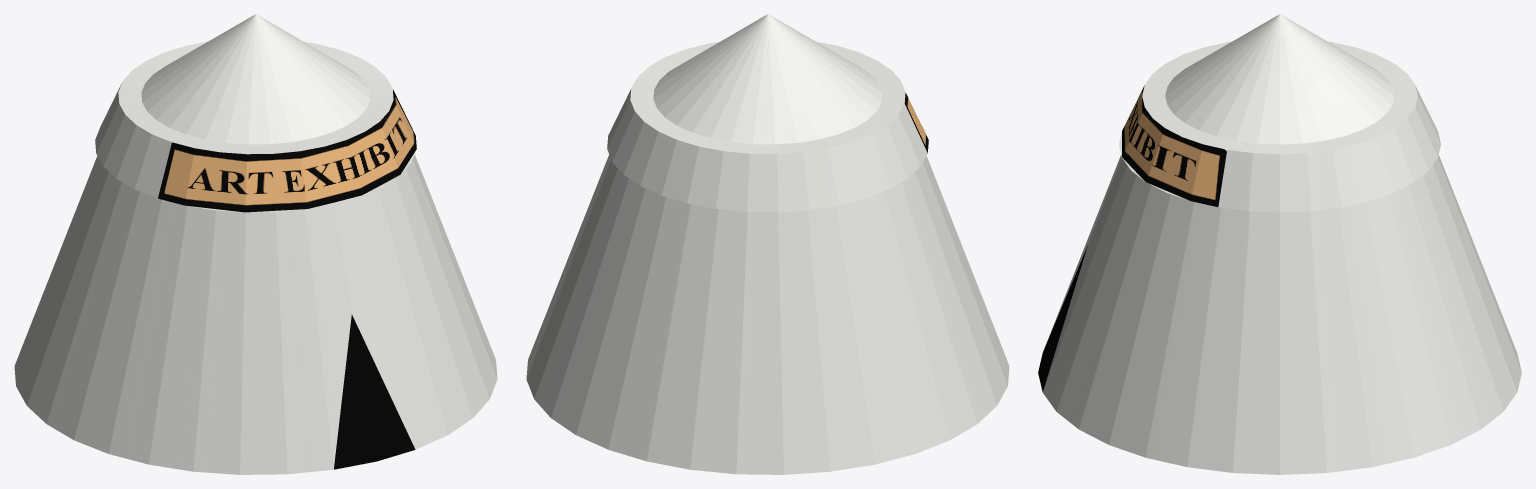
File: ARTmodelv1.fbx
3 renders of one model, left to right at view 1: azimuth 30°, elevation 25°; view 2: azimuth 150°, elevation 25°; view 3: azimuth 270°, elevation 25°, orthographic.
Visible parts, largest first — view 1: Cone; view 2: Cone; view 3: Cone.
Part boxes in pixels (x1,y1,x2,y2): Cone: (14,14,497,474); Cone: (526,14,1009,474); Cone: (1038,14,1521,474).
Bounding box in the file's own units: 343 × 280 × 343.
